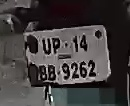1: (71, 35, 79, 53)
2: (70, 60, 79, 79)
4: (79, 32, 89, 54)
6: (78, 60, 87, 78), (87, 60, 96, 77)
9: (61, 63, 70, 81)
B: (47, 64, 58, 84), (37, 65, 47, 82)
P: (51, 36, 61, 56)
U: (41, 38, 51, 56)
